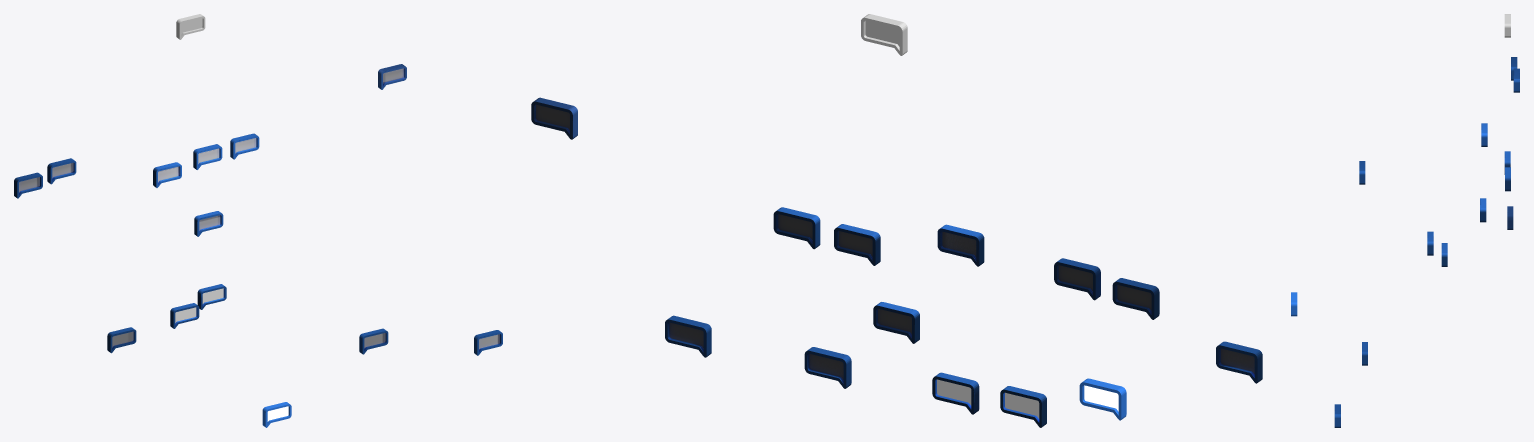
Rendered from pop_up_books.glb.
The picture shows the model from 3 angles, left to right: view 1: azimuth 30°, elevation 25°; view 2: azimuth 150°, elevation 25°; view 3: azimuth 270°, elevation 25°; orthographic projection. The views are drawn at different scales.
Parts seen in each view (by area): view 1: pop_up_games, pop_up_running, pop_up_photography_left, pop_up_books, pop_up_share_knowledge, pop_up_contact_me, pop_up_travel, pop_up_movies, pop_up_development, pop_up_stereoscopy, pop_up_art, pop_up_social_networks (+2 smaller); view 2: pop_up_running, pop_up_stereoscopy, pop_up_art, pop_up_books, pop_up_social_networks, pop_up_share_knowledge, pop_up_games, pop_up_photography_right, pop_up_movies, pop_up_photography_left, pop_up_languages, pop_up_travel (+2 smaller); view 3: no part large enough to name.
Part boxes in pixels (x1=…): pop_up_games: x1=107, y1=327, x2=136, y2=353; pop_up_running: x1=262, y1=402, x2=291, y2=427; pop_up_photography_left: x1=47, y1=158, x2=76, y2=184; pop_up_books: x1=230, y1=133, x2=259, y2=159; pop_up_share_knowledge: x1=359, y1=328, x2=388, y2=354; pop_up_contact_me: x1=170, y1=303, x2=199, y2=328; pop_up_travel: x1=176, y1=14, x2=205, y2=39; pop_up_movies: x1=193, y1=144, x2=222, y2=169; pop_up_development: x1=194, y1=211, x2=223, y2=236; pop_up_stereoscopy: x1=197, y1=284, x2=226, y2=309; pop_up_art: x1=14, y1=172, x2=42, y2=198; pop_up_social_networks: x1=153, y1=162, x2=181, y2=187; pop_up_running: x1=1079, y1=378, x2=1126, y2=420; pop_up_stereoscopy: x1=932, y1=372, x2=979, y2=414; pop_up_art: x1=1112, y1=278, x2=1159, y2=319; pop_up_books: x1=773, y1=207, x2=820, y2=249; pop_up_social_networks: x1=937, y1=224, x2=984, y2=266; pop_up_share_knowledge: x1=804, y1=347, x2=851, y2=388; pop_up_games: x1=1216, y1=341, x2=1262, y2=383; pop_up_photography_right: x1=665, y1=315, x2=711, y2=357; pop_up_movies: x1=834, y1=224, x2=880, y2=265; pop_up_photography_left: x1=1054, y1=258, x2=1100, y2=300; pop_up_languages: x1=531, y1=97, x2=577, y2=139; pop_up_travel: x1=861, y1=14, x2=907, y2=55.
Size of the model in its own units: 34.1 by 26.5 by 17.78.
14 materials, 13 textured.
